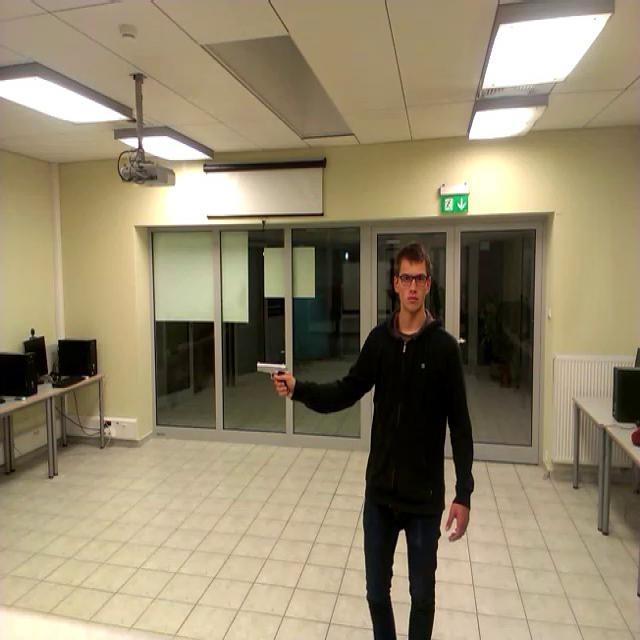Gun: (256, 360, 288, 393)
